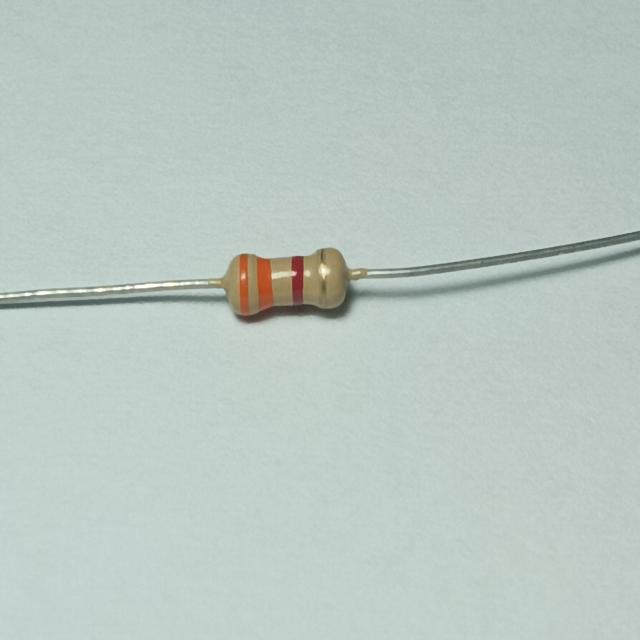3.3k ohms: (214, 225, 357, 329)
